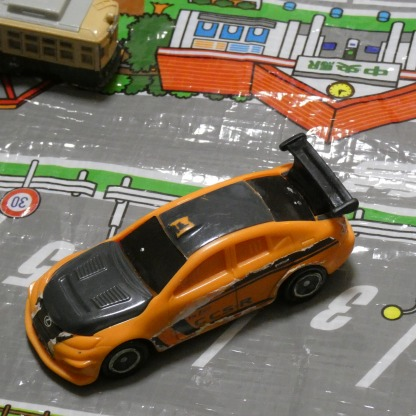car: (25, 131, 357, 389)
